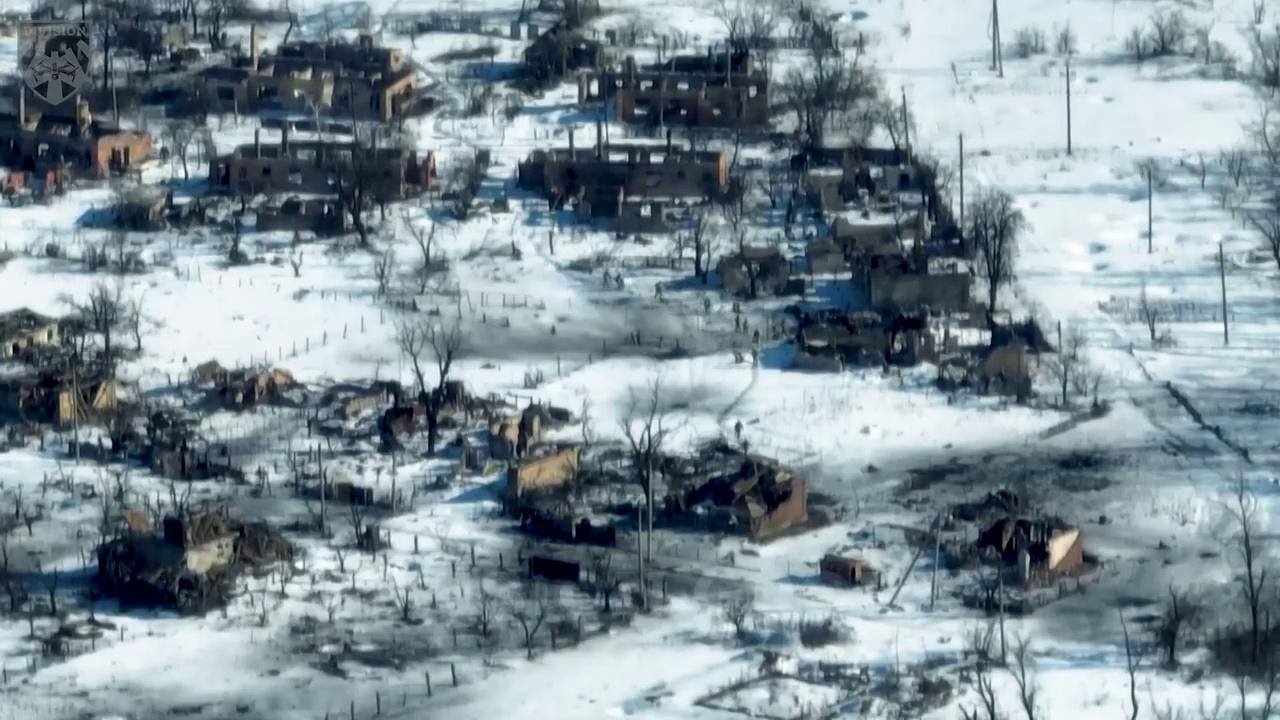person: (655, 279, 663, 304), (602, 268, 611, 288), (616, 272, 624, 292), (734, 419, 742, 439), (751, 348, 758, 368), (742, 438, 750, 455), (734, 314, 741, 332), (704, 296, 711, 314), (744, 316, 750, 334), (752, 328, 759, 343)
